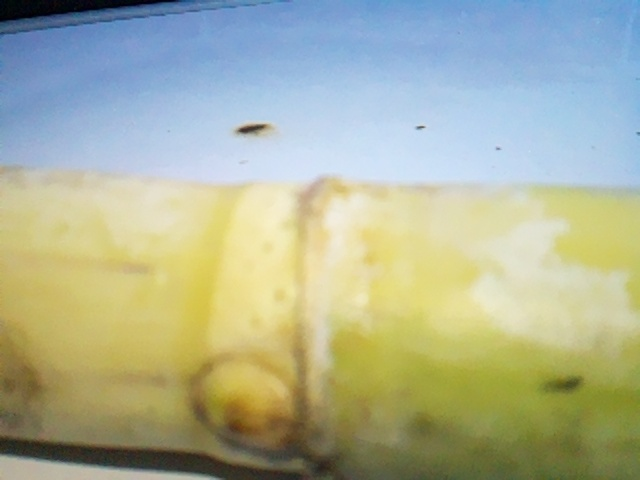Good Sugarcane: (0, 165, 636, 467)
Node: (188, 175, 378, 480)
